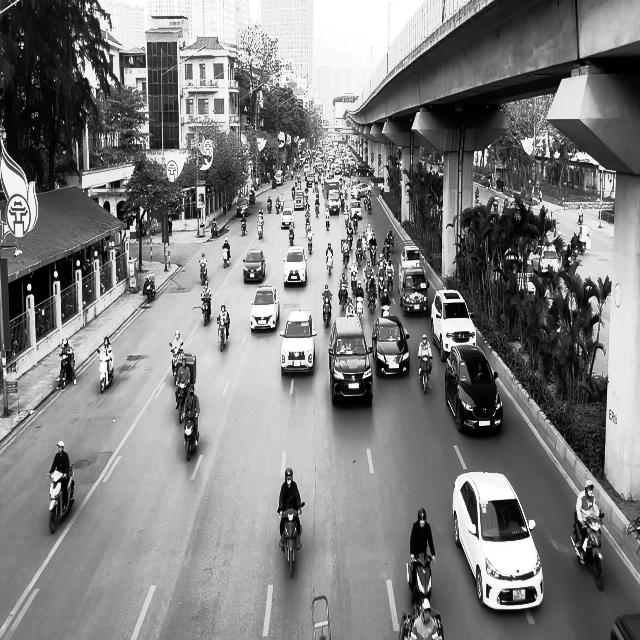car: (452, 469, 544, 612), (444, 344, 503, 434), (328, 316, 373, 406), (430, 289, 476, 362), (279, 308, 317, 376), (371, 314, 410, 376), (249, 284, 279, 332), (529, 242, 560, 278), (282, 245, 308, 287), (610, 613, 640, 639), (243, 249, 265, 283), (280, 207, 294, 229), (236, 198, 250, 218)
motorbike: (570, 510, 605, 590), (278, 502, 304, 578), (47, 466, 75, 534), (406, 553, 433, 607), (96, 348, 115, 393), (183, 410, 199, 460), (58, 352, 76, 389), (175, 382, 188, 423), (418, 356, 432, 394), (216, 316, 230, 352), (169, 344, 181, 384), (143, 275, 156, 302), (322, 294, 332, 328), (201, 294, 211, 326), (199, 260, 207, 286), (222, 245, 230, 268), (240, 217, 247, 235)
